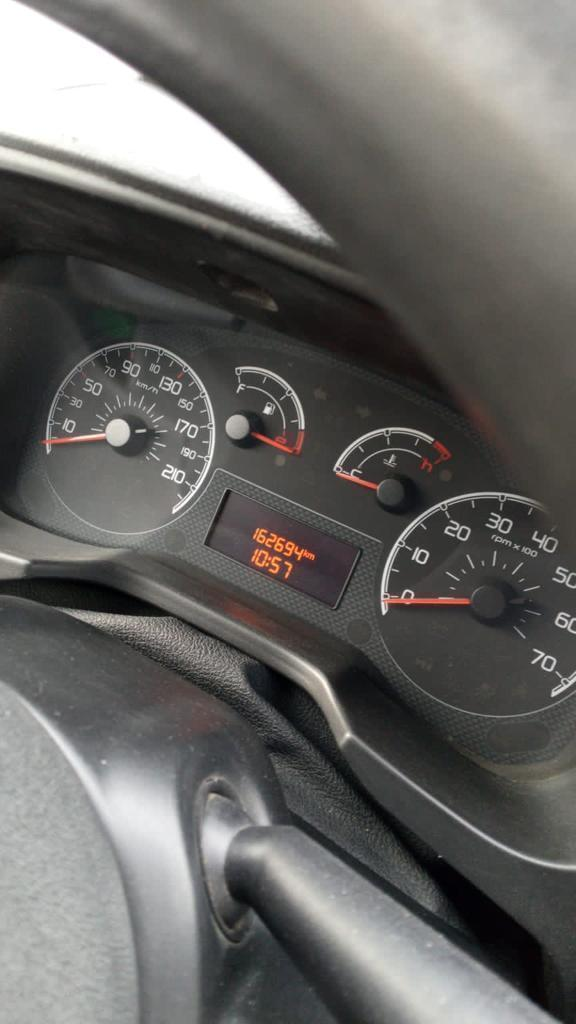0: (254, 548, 268, 567)
1: (251, 546, 259, 563), (251, 526, 260, 541)
2: (265, 530, 277, 549)
4: (293, 544, 303, 560)
5: (267, 555, 282, 575)
6: (273, 535, 286, 553), (257, 526, 266, 544)
7: (282, 560, 293, 581)
9: (284, 539, 294, 557)
X: (265, 555, 272, 568), (307, 551, 315, 560), (303, 548, 307, 558)
odometer: (199, 486, 367, 611)
